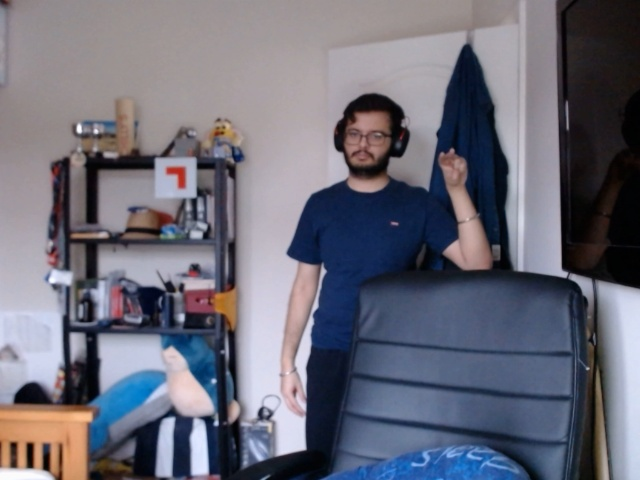No: (433, 145, 481, 197)
